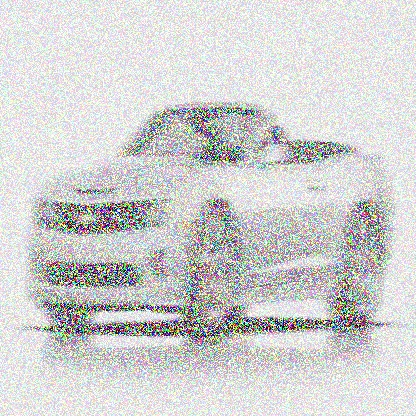Vehicle: (31, 107, 392, 332)
